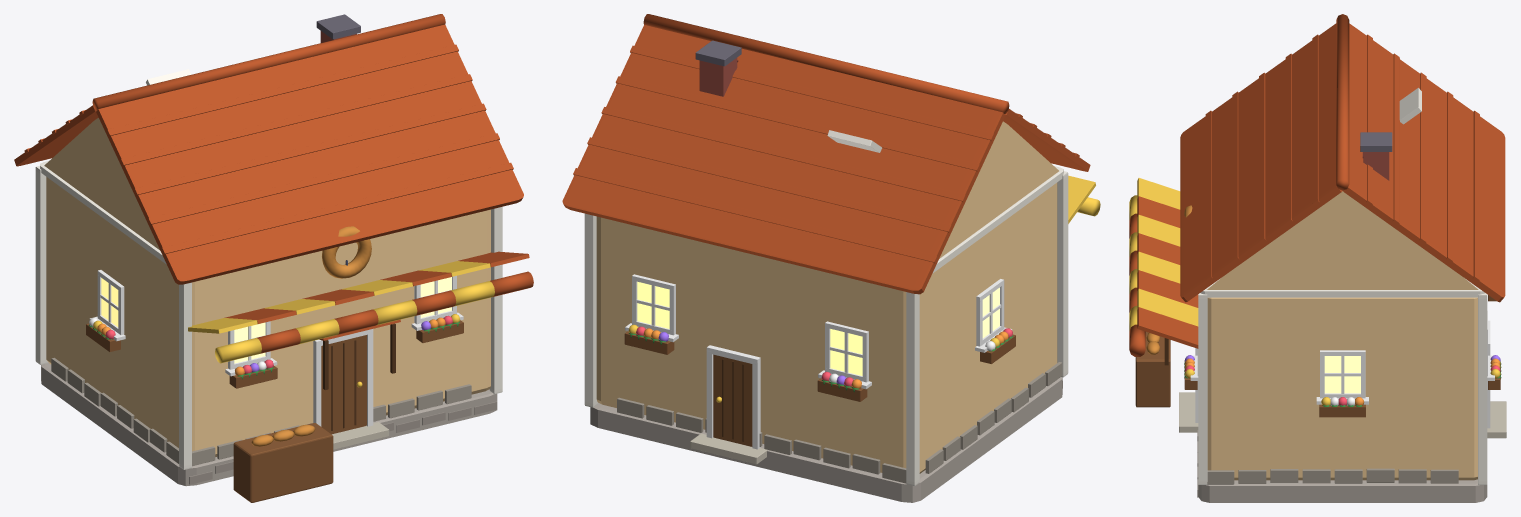
The model's file is pekarna.glb.
The picture shows the model from 3 angles, left to right: view 1: azimuth 30°, elevation 25°; view 2: azimuth 150°, elevation 25°; view 3: azimuth 270°, elevation 25°; orthographic projection. The views are drawn at different scales.
Parts seen in each view (by area): view 1: pekarna; view 2: pekarna; view 3: pekarna.
Boxes of the visible parts, bbox=[...] form: pekarna: bbox=[14, 14, 533, 502]; pekarna: bbox=[562, 14, 1100, 502]; pekarna: bbox=[1129, 14, 1506, 502].
Bounding box in the file's own units: 6.74 × 6.27 × 6.47.
Materials: 2 (2 with a texture image).
